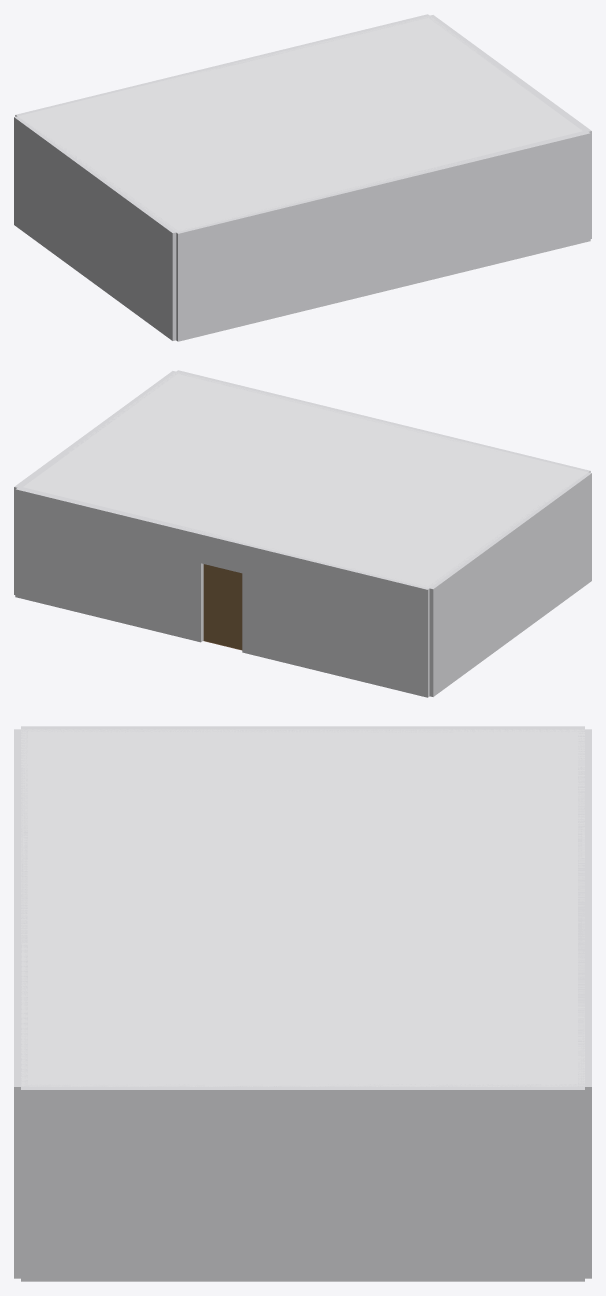
The model's file is bar_venue_lowpoly_colliders.glb.
3 views of the same model, one above another, from view 1: azimuth 30°, elevation 25°; view 2: azimuth 150°, elevation 25°; view 3: azimuth 270°, elevation 25° (orthographic). The views are drawn at different scales.
Visible parts, largest first — view 1: Ceiling, Wall_Back, Wall_Left, Wall_Right, Wall_Front_Right, Wall_Front_Left; view 2: Ceiling, Wall_Front_Right, Wall_Front_Left, Wall_Left, Door, Wall_Back, Wall_Front_Lintel, Wall_Right; view 3: Ceiling, Wall_Right, Wall_Back, Wall_Front_Right, Wall_Left, Wall_Front_Left.
Part boxes in pixels (bbox=[...]): Ceiling: bbox=[18, 16, 582, 232]; Wall_Back: bbox=[175, 130, 590, 341]; Wall_Left: bbox=[14, 116, 178, 340]; Wall_Right: bbox=[426, 15, 591, 238]; Wall_Front_Right: bbox=[242, 14, 429, 62]; Wall_Front_Left: bbox=[15, 69, 202, 116]; Ceiling: bbox=[23, 371, 587, 588]; Wall_Front_Right: bbox=[15, 486, 204, 642]; Wall_Front_Left: bbox=[242, 543, 429, 697]; Wall_Left: bbox=[427, 472, 591, 696]; Door: bbox=[203, 564, 242, 649]; Wall_Back: bbox=[174, 370, 590, 472]; Wall_Front_Lintel: bbox=[201, 531, 243, 573]; Wall_Right: bbox=[14, 371, 176, 594]; Ceiling: bbox=[21, 729, 584, 1086]; Wall_Right: bbox=[21, 1084, 584, 1281]; Wall_Back: bbox=[14, 729, 27, 1278]; Wall_Front_Right: bbox=[578, 926, 591, 1278]; Wall_Left: bbox=[21, 726, 584, 732]; Wall_Front_Left: bbox=[578, 729, 591, 890].
Size of what is drawn, in the model's own units: 12.2 by 3 by 8.2.
